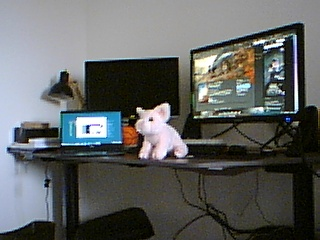piggy: (133, 101, 189, 161)
